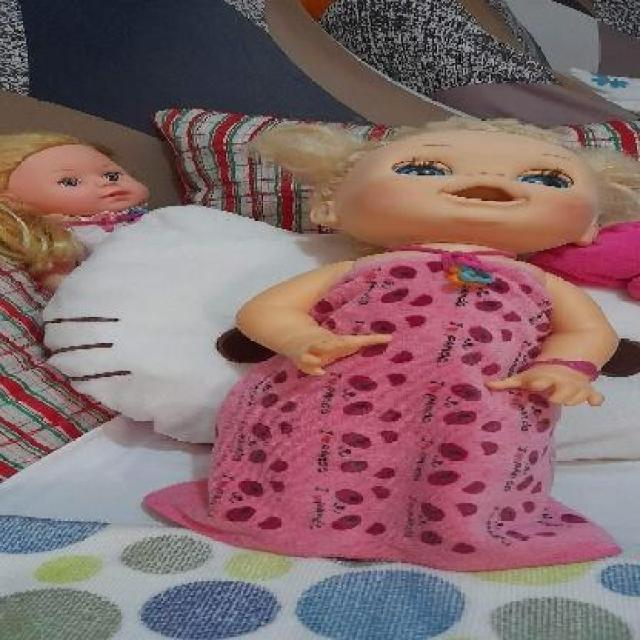non-dog: (144, 118, 638, 574), (0, 130, 150, 283)
